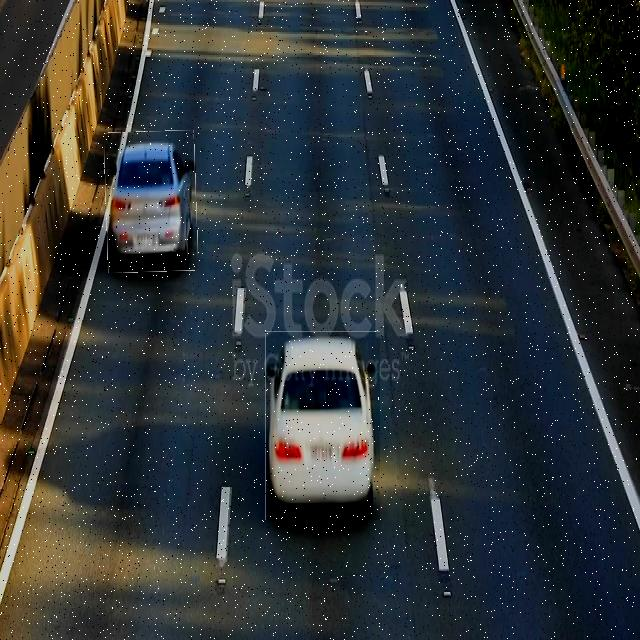Car: (265, 331, 380, 520), (105, 131, 197, 273)
